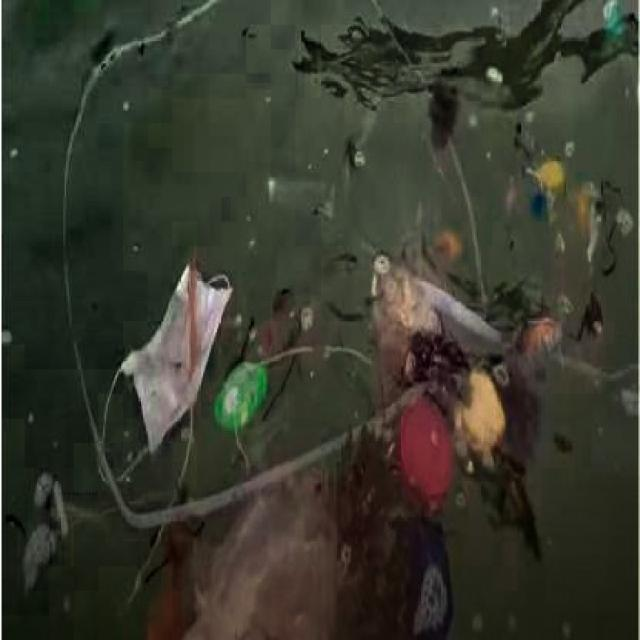Mask: (70, 196, 238, 542)
